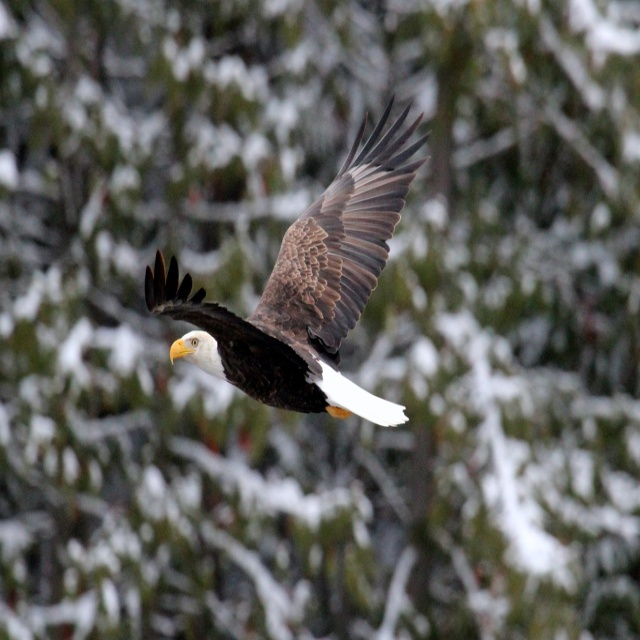Eagle: (145, 88, 434, 432)
